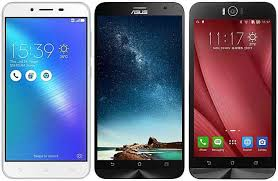asus: (186, 1, 278, 180), (93, 2, 186, 178), (1, 2, 92, 178)
